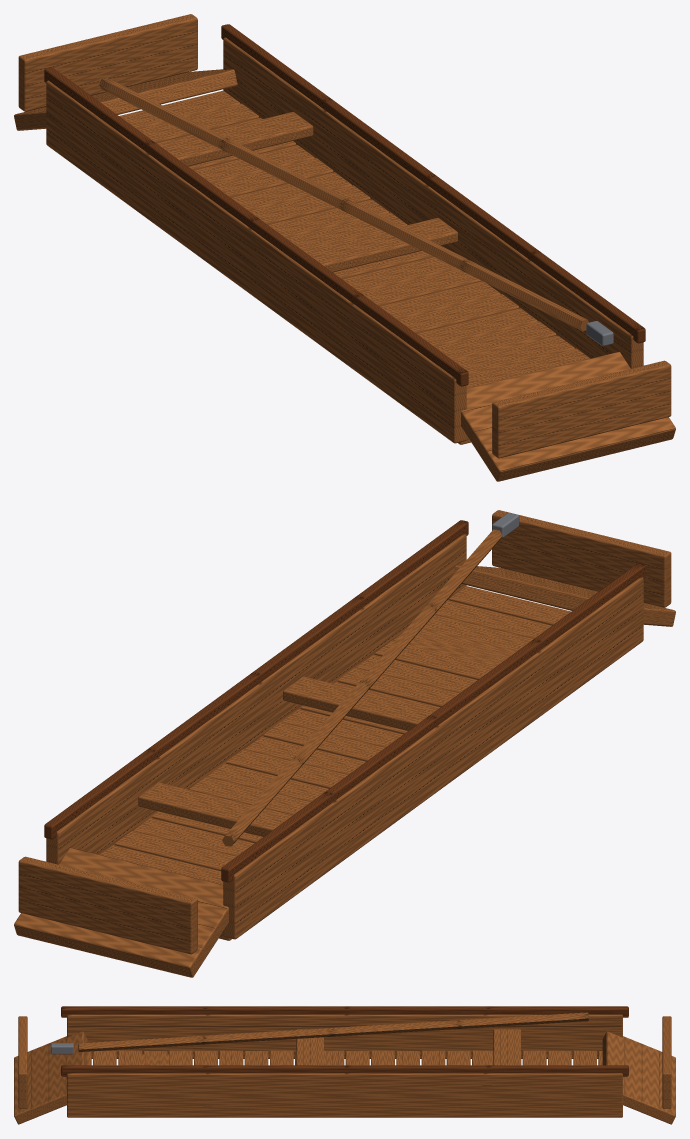
The model's file is canal-punt.glb.
3 views of the same model, one above another, from view 1: azimuth 30°, elevation 25°; view 2: azimuth 150°, elevation 25°; view 3: azimuth 270°, elevation 25° (orthographic). The views are drawn at different scales.
Visible parts, largest first — view 1: canal-punt; view 2: canal-punt; view 3: canal-punt.
Part boxes in pixels (<box>): canal-punt: <box>14,14,675,481</box>; canal-punt: <box>14,510,675,977</box>; canal-punt: <box>14,1006,675,1124</box>.
Size of the model in its own units: 1.29 by 0.6356 by 5.71.
Materials: 3 (2 with a texture image).
